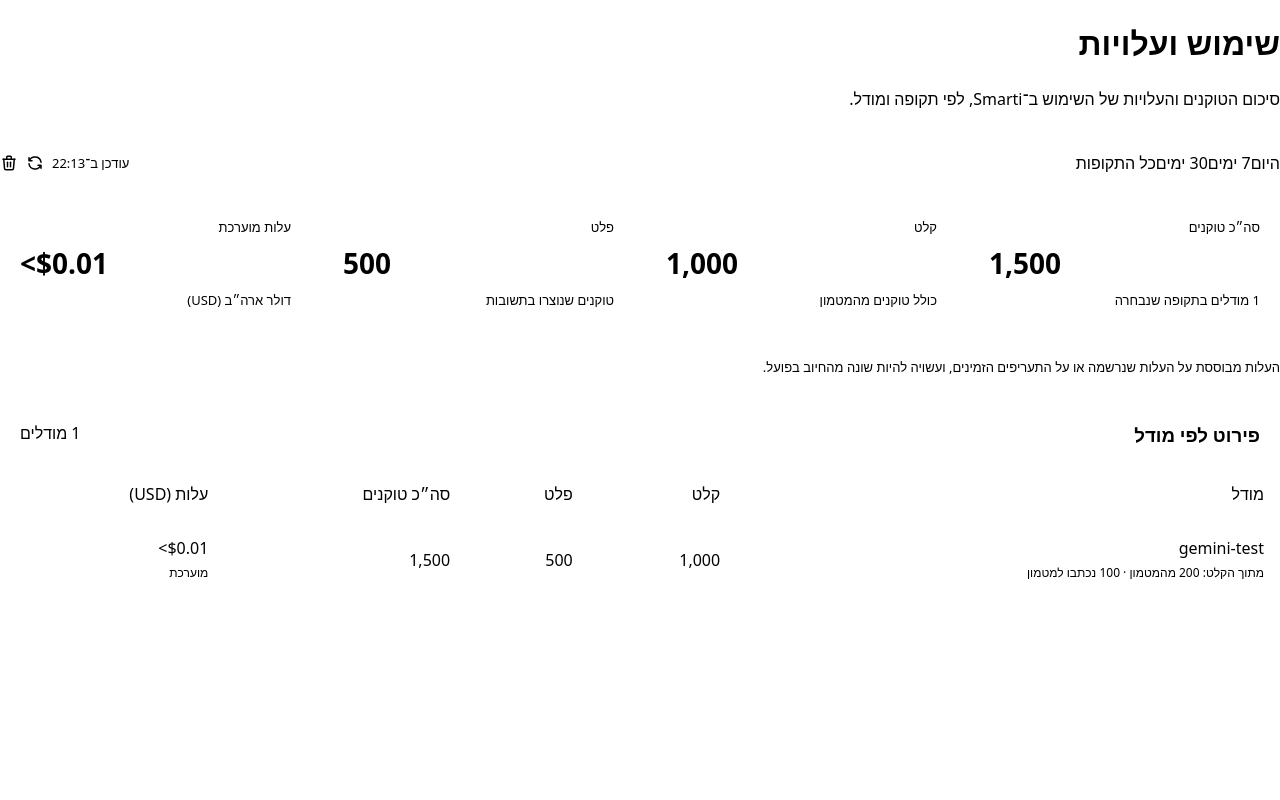
Test: usage loading through the desktop API › clears cached periods and ignores a read that finishes after clearing
Check: the text "gemini-test" is shown, box [1179,537,1264,559]
Click the button named "רענון": (35,163) [26,154,44,172]
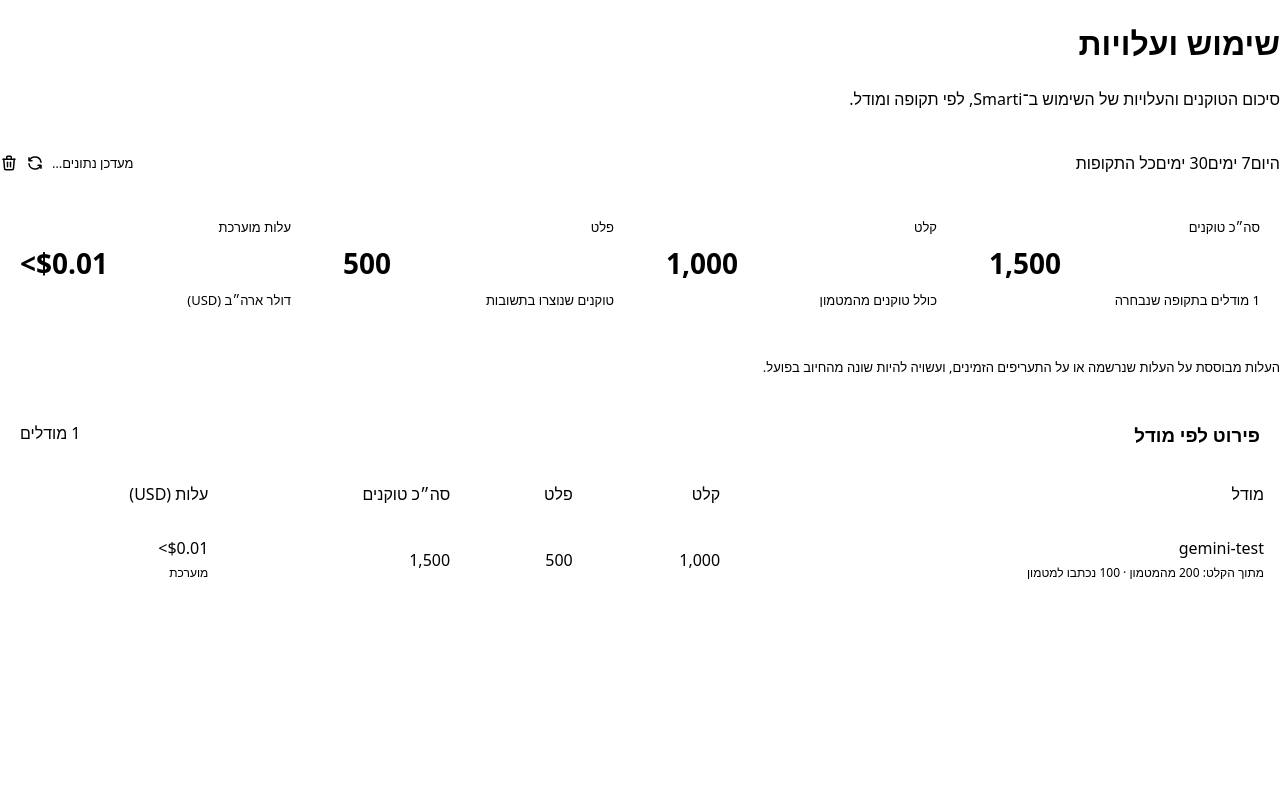
Click the button named "ניקוי נתונים": (9,163) [0,154,18,172]
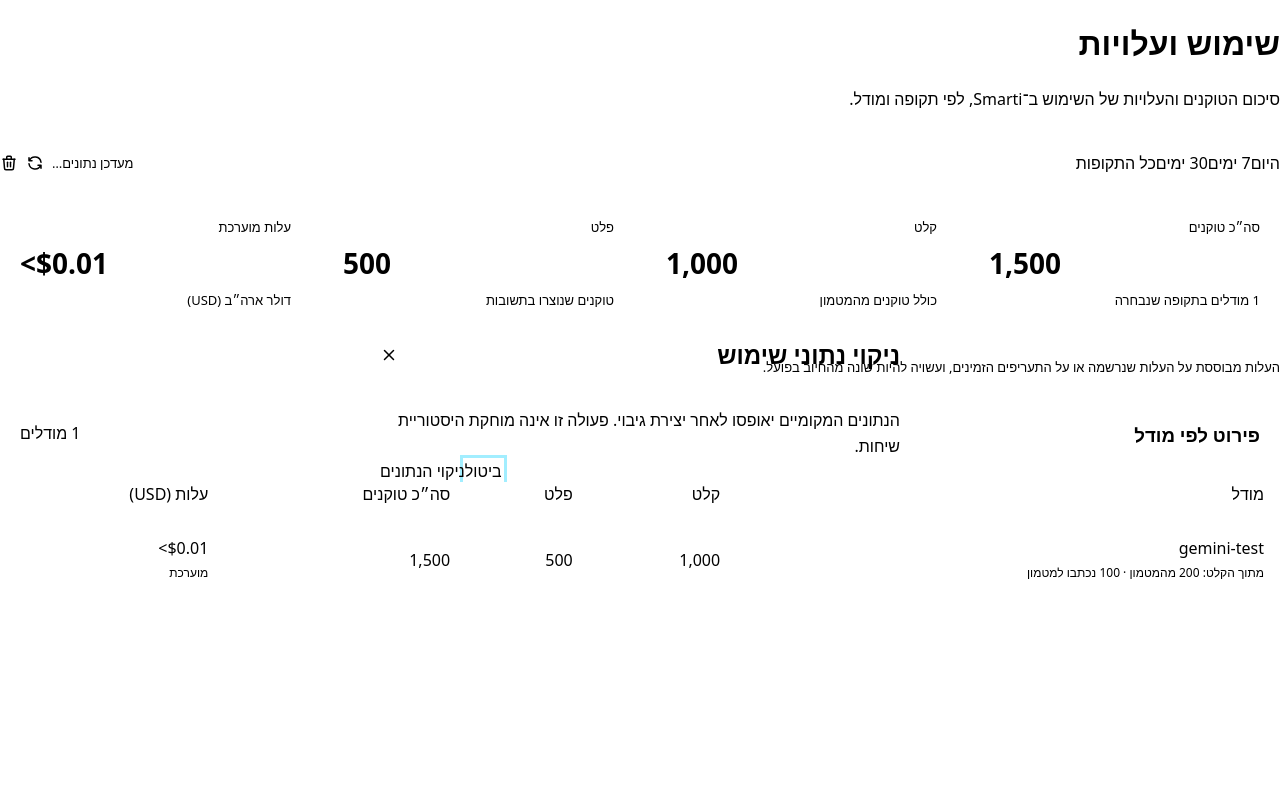
Click the button "ניקוי הנתונים": (422,471) [380,460,465,482]
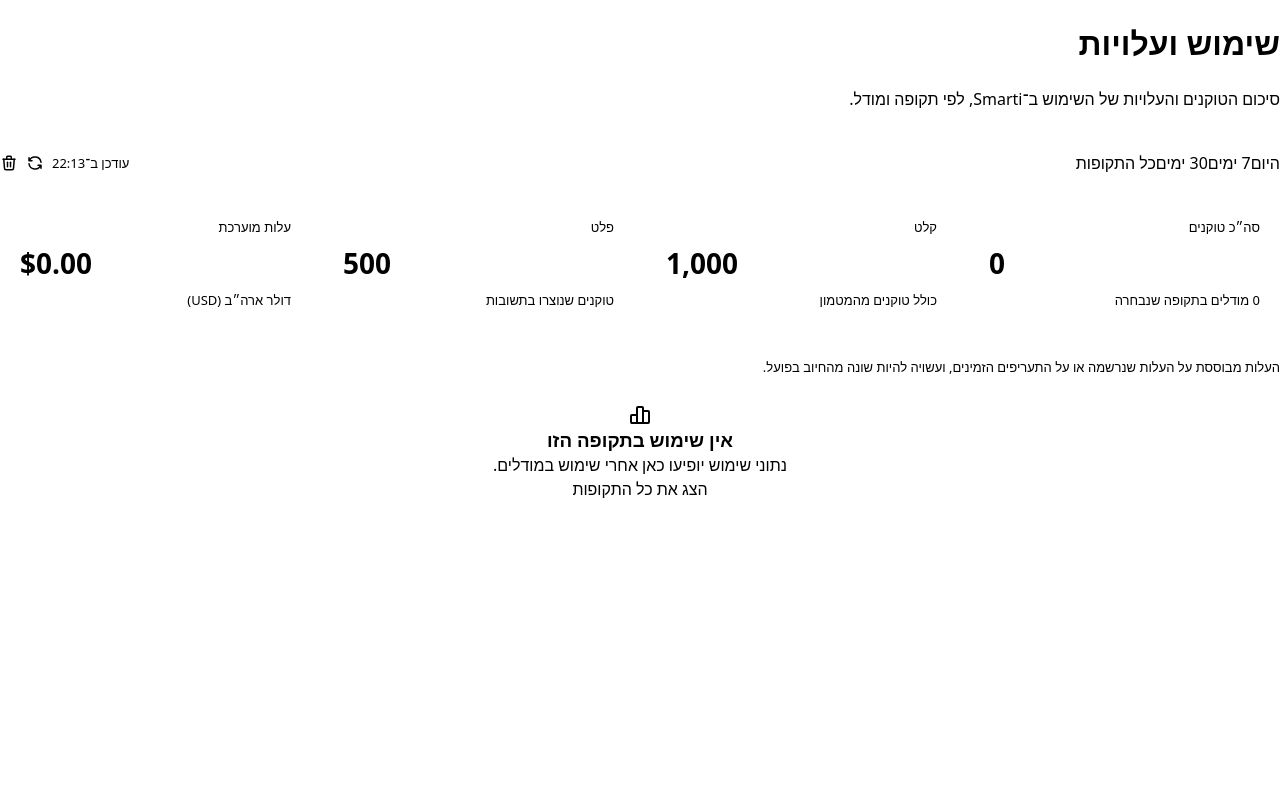
Check: the dialog is gone
Check: the heading "אין שימוש בתקופה הזו" is shown, box [547,426,733,452]
